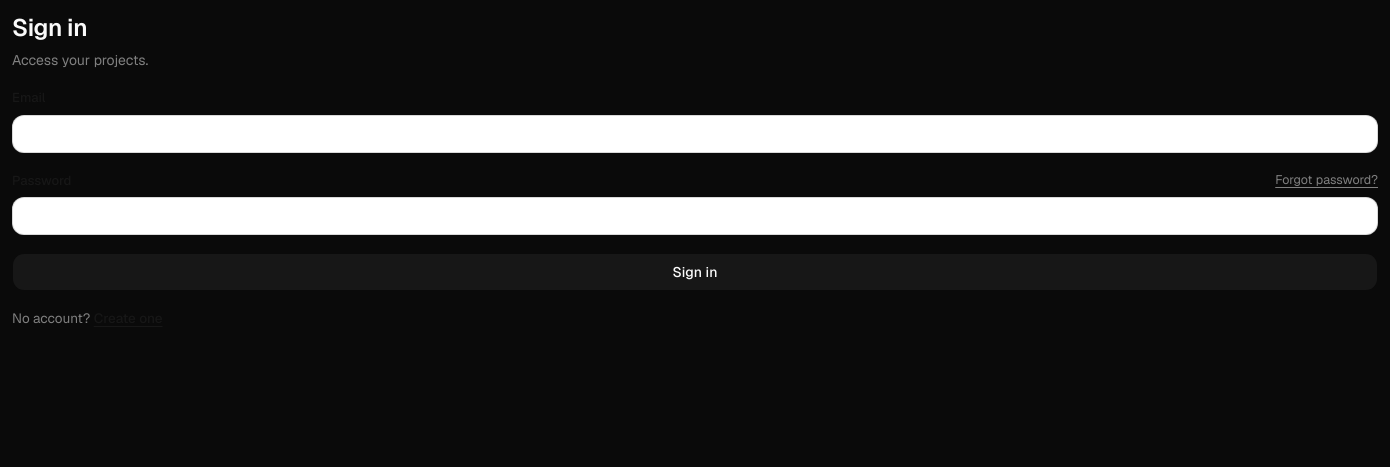
Test case: SignInForm › explains an unverified sign in and offers a resend instead of a credentials failure
Type "ada@example.com" into the field labelled "Email". click: (695, 134)
box: x1=12 y1=114 x2=1378 y2=152
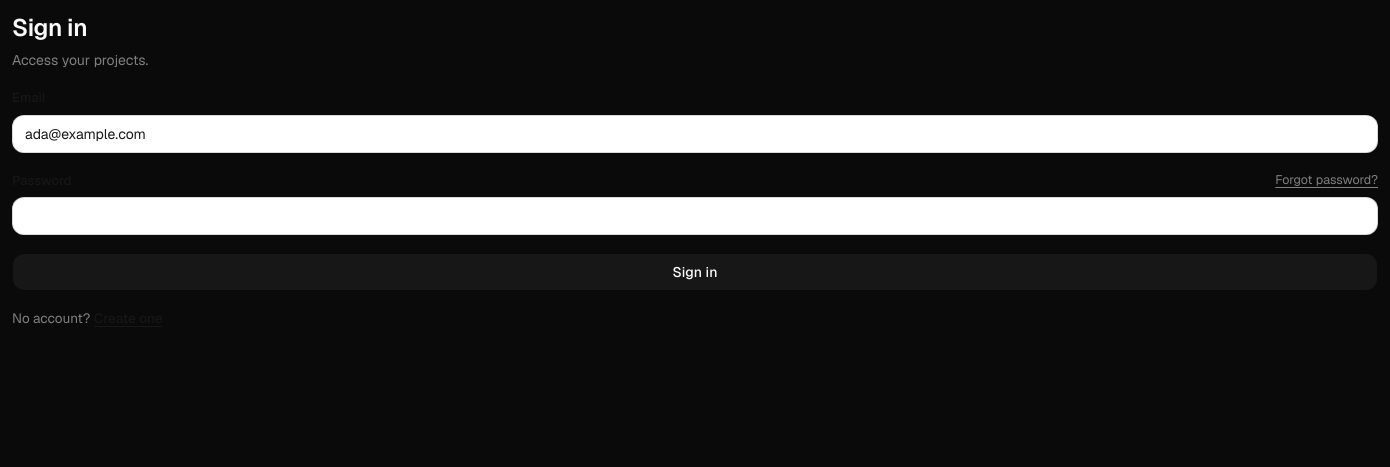
Type "a-long-enough-password" into the password field labelled "Password". click: (695, 216)
box: x1=12 y1=197 x2=1378 y2=235
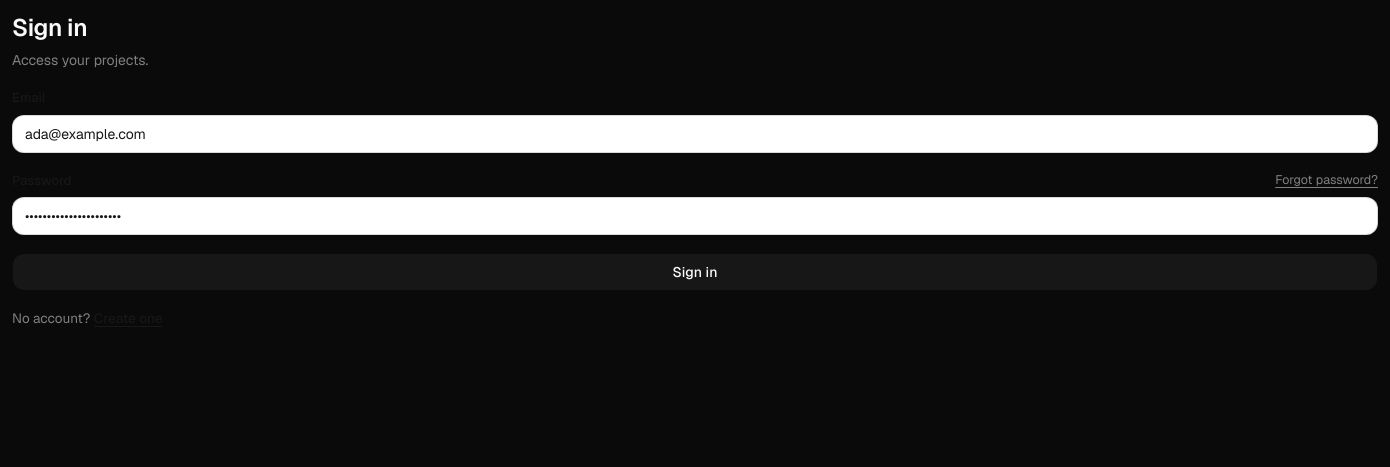
Click the button "Sign in". click: (695, 272)
box: x1=12 y1=253 x2=1378 y2=291
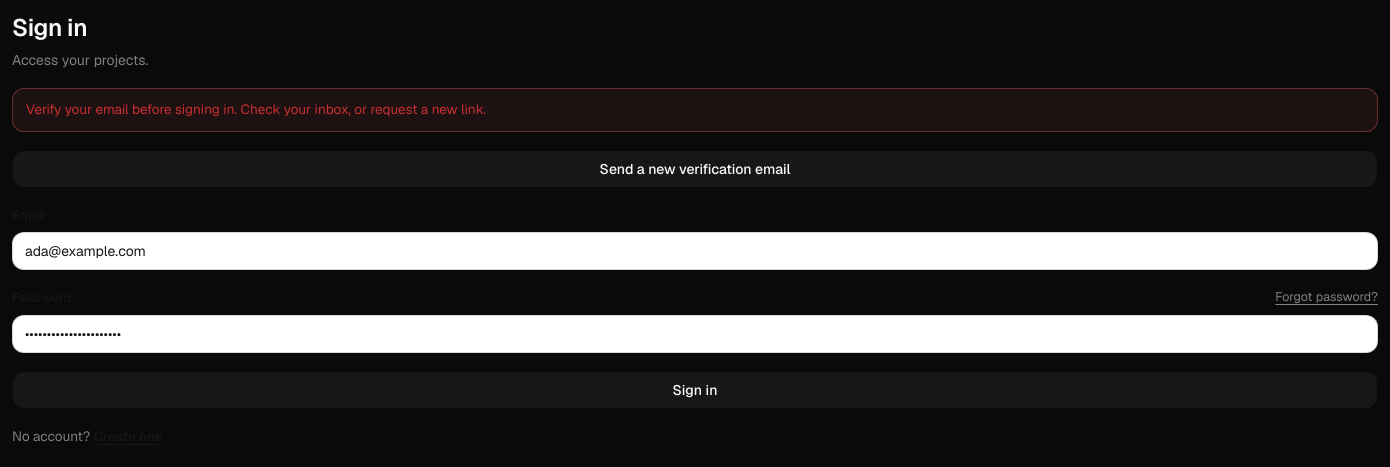
Expected: the message reads "Verify your email before signing in. Check your inbox, or request a new link.", x1=26 y1=100 x2=486 y2=118
Click the button "Send a new verification email". click: (695, 169)
box: x1=12 y1=150 x2=1378 y2=188
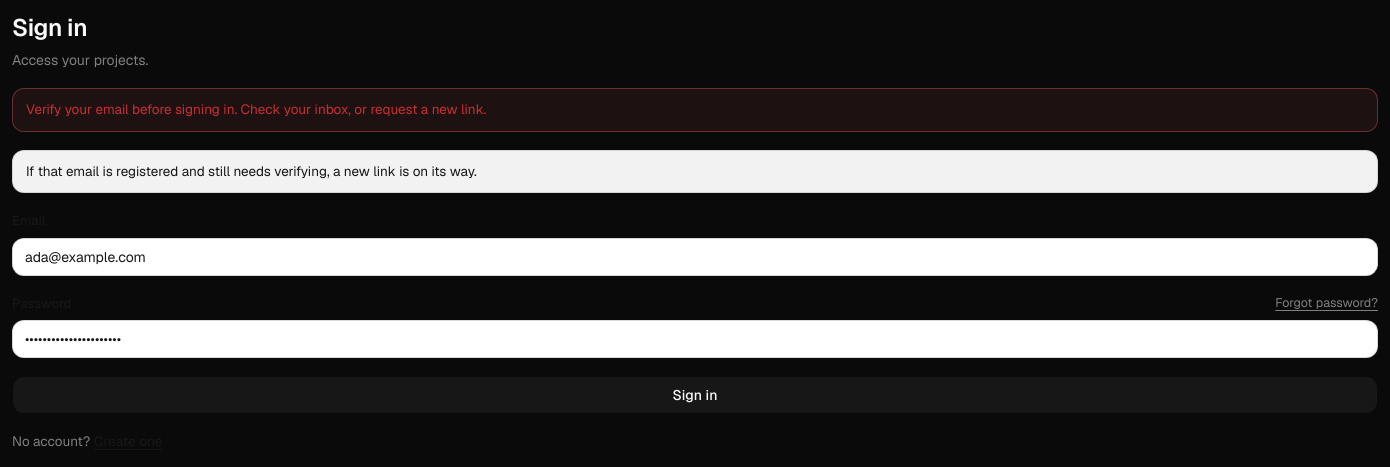
Expected: the text "If that email is registered and still needs verifying, a new link is on its way." is shown, x1=12 y1=150 x2=1378 y2=193
